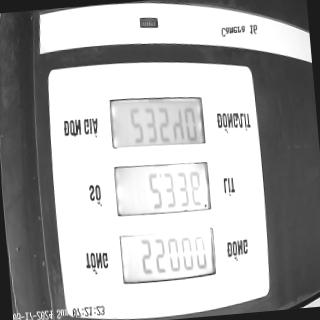screen: (106, 86, 220, 291)
